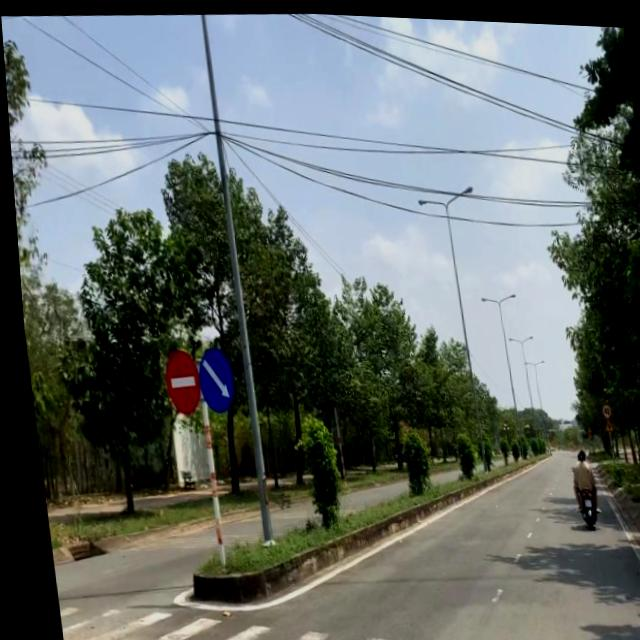Cam di nguoc chieu: (157, 347, 198, 416)
Vong chuong ngai vat sang phai: (190, 345, 232, 413)
